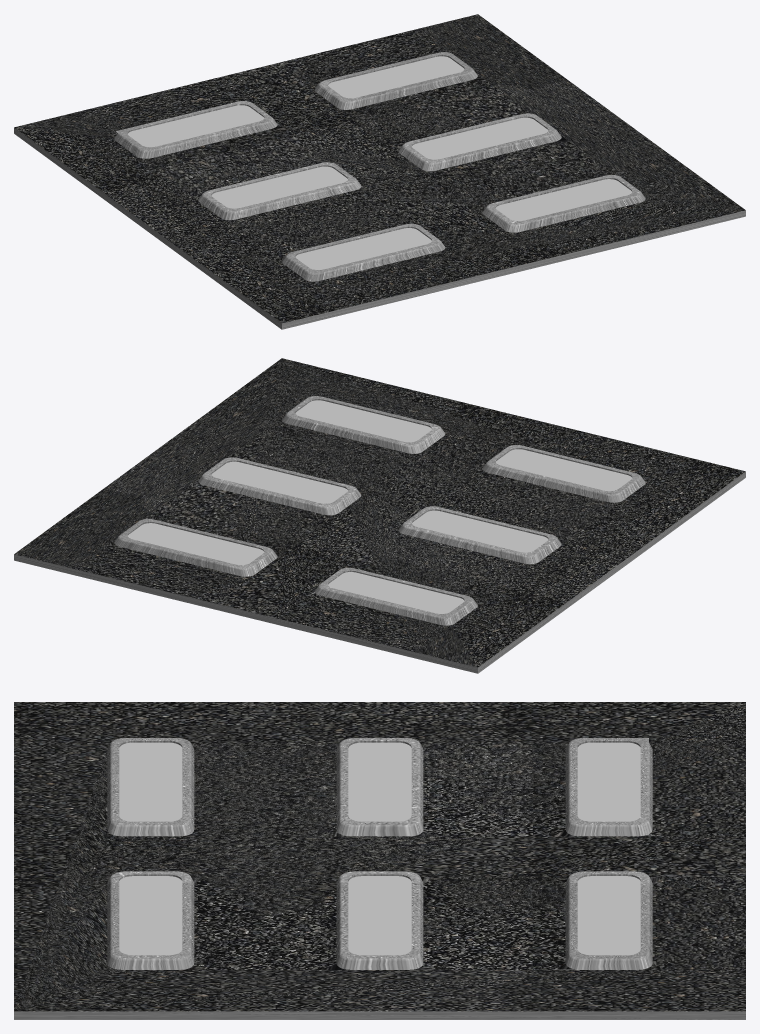
The model's file is tile10.fbx.
3 views of the same model, one above another, from view 1: azimuth 30°, elevation 25°; view 2: azimuth 150°, elevation 25°; view 3: azimuth 270°, elevation 25° (orthographic). The views are drawn at different scales.
Visible parts, largest first — view 1: Cube; view 2: Cube; view 3: Cube.
Part boxes in pixels (<box>): Cube: <box>14,14,745,329</box>; Cube: <box>14,358,745,673</box>; Cube: <box>14,702,745,1019</box>.
Bounding box in the file's own units: 600 × 15.53 × 600.
